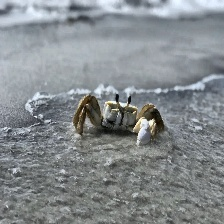crab: (133, 103, 165, 146), (72, 95, 103, 135)
